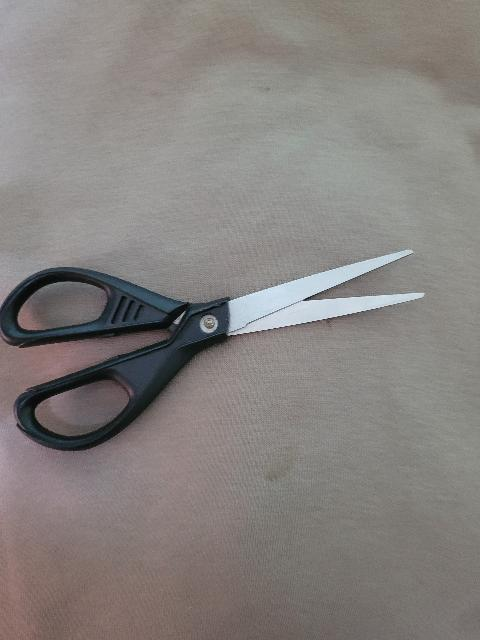Metal: (233, 246, 425, 339)
Plastik: (0, 263, 234, 454)
